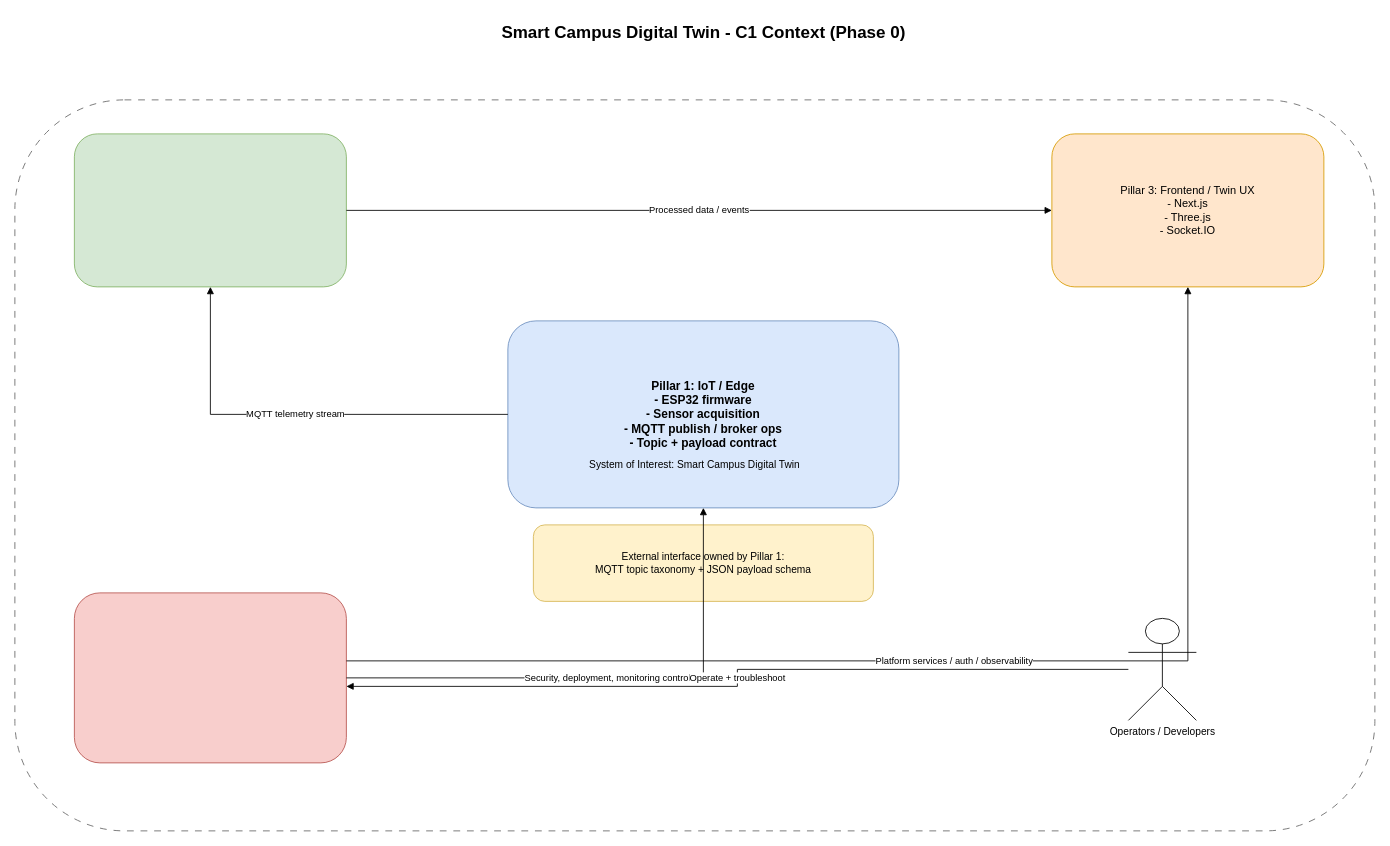
This 1390x846 diagram has some shape labels left out. Here are the shapes that lost their labels. From the top down, the centre of each, then its label:
point 210,210: Pillar 2: Data & AI - Kafka - Spark processing - MLflow - PostgreSQL
point 210,677: Pillar 4: Platform / Ops - Docker - Kubernetes - Kong - Keycloak - Prometheus
